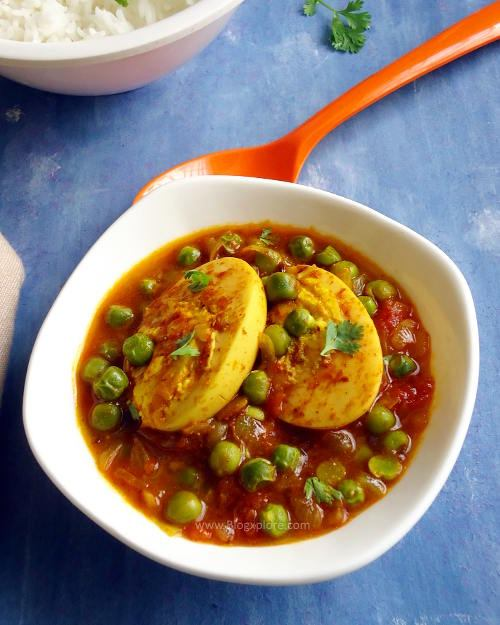boiled peas: (86, 360, 125, 399), (166, 489, 201, 525), (256, 503, 292, 536), (211, 442, 245, 474), (121, 332, 151, 368), (244, 369, 270, 403), (266, 274, 292, 307), (247, 458, 274, 488), (276, 441, 302, 472), (323, 249, 355, 274), (369, 448, 397, 476), (366, 403, 390, 435), (264, 324, 287, 357), (287, 235, 315, 258), (392, 355, 418, 378), (282, 311, 311, 331), (366, 279, 394, 299), (108, 306, 135, 326), (179, 246, 201, 268)
boiled potatoes: (145, 265, 259, 434), (274, 272, 376, 427)
plain rice: (1, 1, 135, 39)
